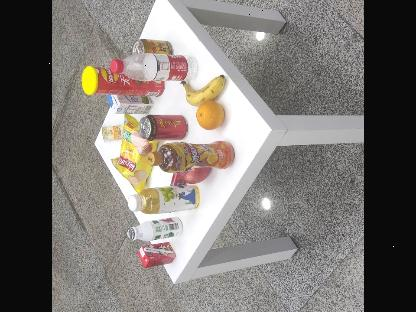Can: (138, 112, 188, 140), (128, 38, 174, 58)
Others: (80, 64, 164, 100), (104, 89, 154, 115), (136, 239, 176, 270)
Plastic Bottle: (108, 50, 198, 84)
